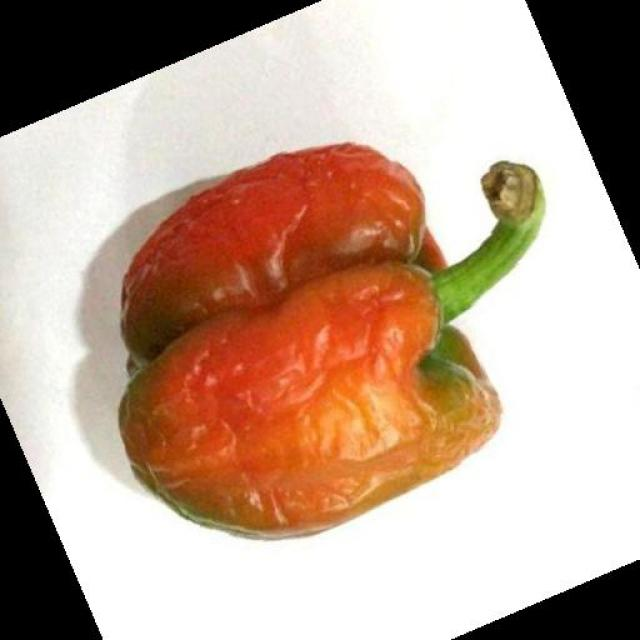Stale_Capsicum: (94, 117, 532, 545)
